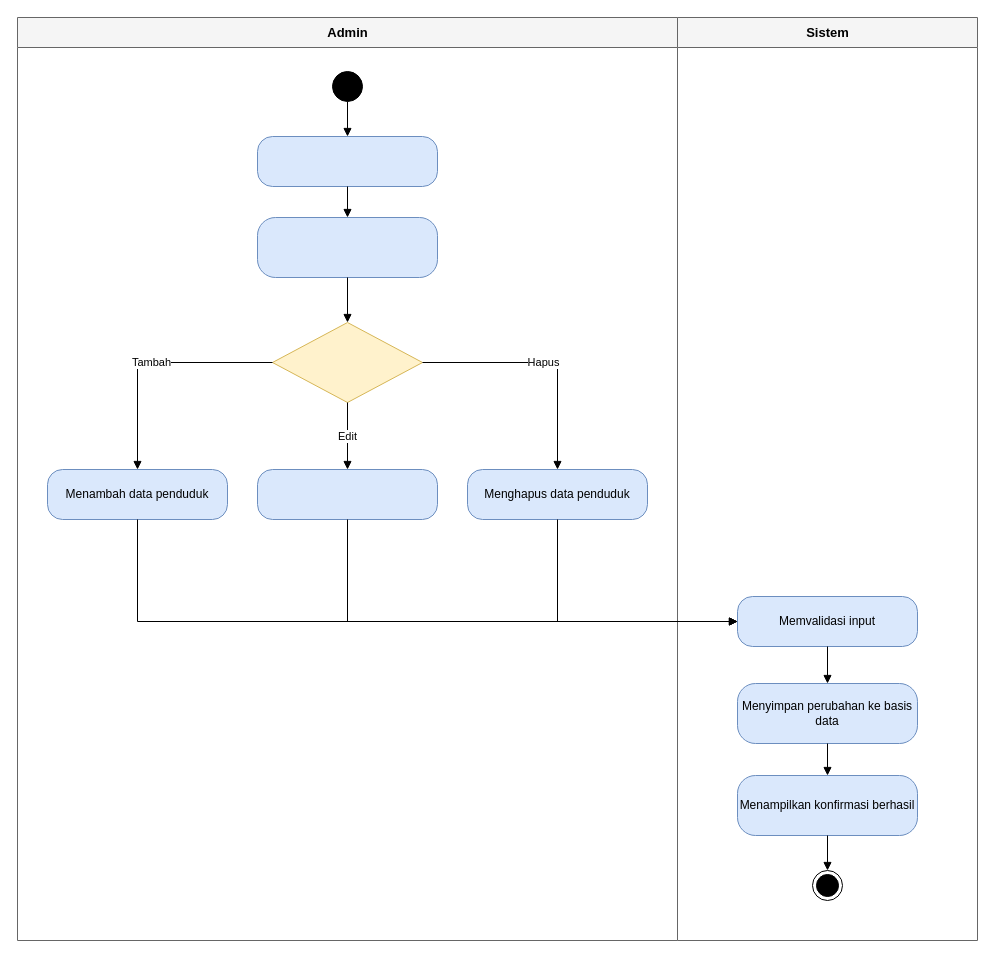
This 995x958 diagram has some shape labels left out. Here are the shapes that lost their labels. From the top down, the centre of each, then its label:
point (347, 161): Login ke sistem
point (347, 247): Membuka menu pendataan penduduk
point (347, 362): Pilih aksi
point (347, 494): Mengedit data penduduk
